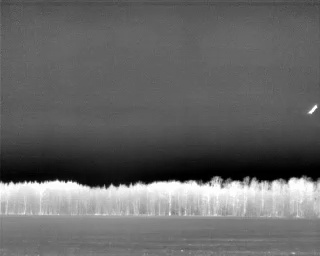DRONE: (304, 101, 320, 119)
